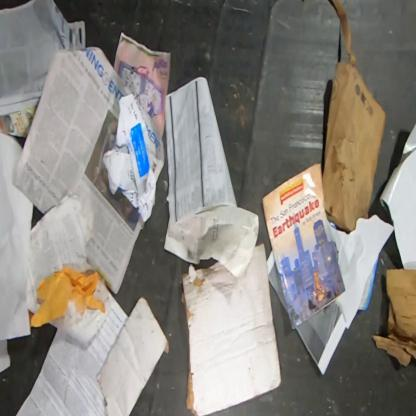cardboard: (181, 244, 282, 415), (322, 0, 386, 232), (102, 94, 166, 223), (372, 268, 415, 368)
